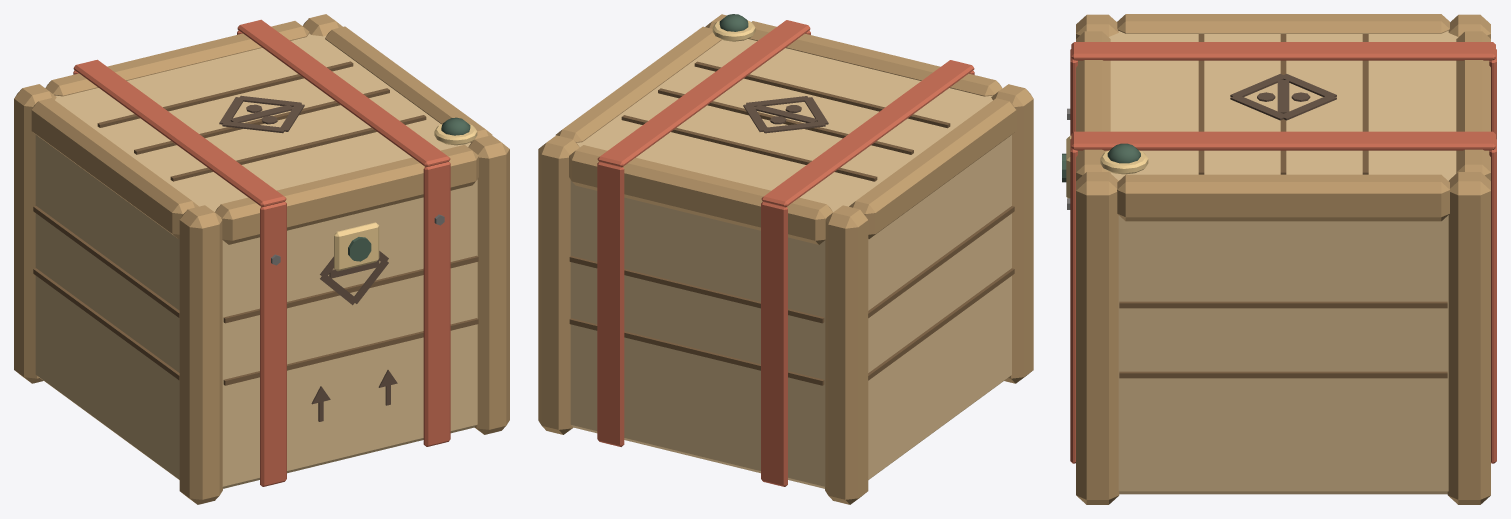
File: crate.glb
The picture shows the model from 3 angles, left to right: view 1: azimuth 30°, elevation 25°; view 2: azimuth 150°, elevation 25°; view 3: azimuth 270°, elevation 25°; orthographic projection. The views are drawn at different scales.
Parts seen in each view (by area): view 1: crate; view 2: crate; view 3: crate.
Part boxes in pixels (x1,y1,x2,y2): crate: (14, 14, 509, 504); crate: (538, 14, 1033, 504); crate: (1062, 14, 1496, 504).
Size of the model in its own units: 0.86 by 0.7852 by 0.901.
